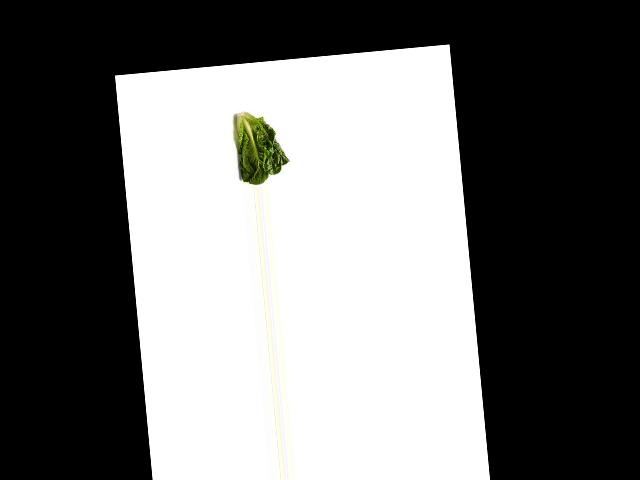lettuce: (222, 105, 291, 187)
